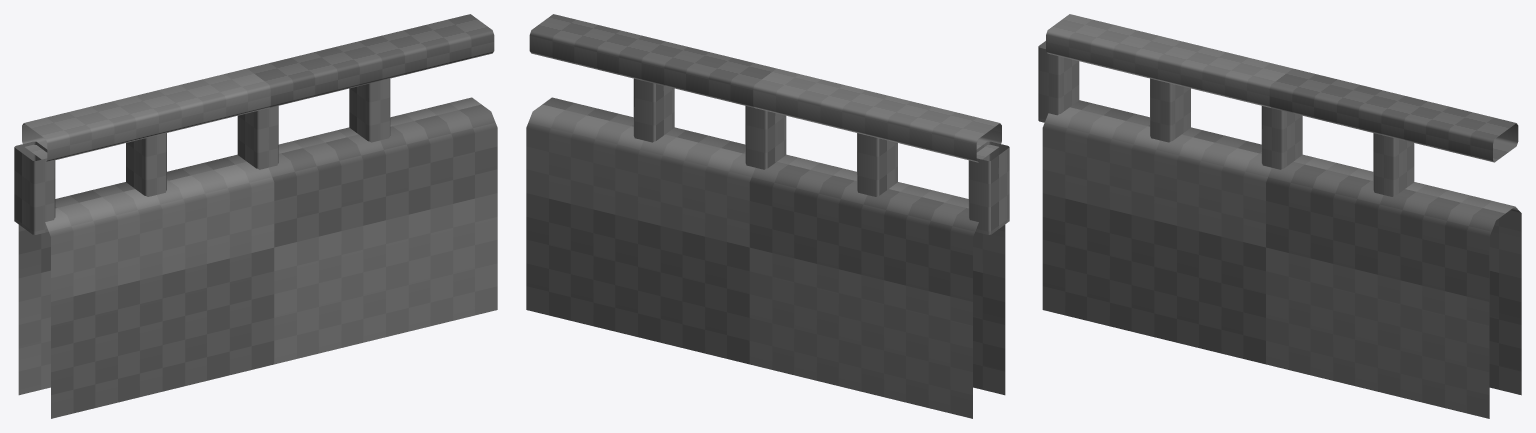
Rendered from Railing_X4_Y2_Z2.fbx.
3 renders of one model, left to right at view 1: azimuth 30°, elevation 25°; view 2: azimuth 150°, elevation 25°; view 3: azimuth 330°, elevation 25°, orthographic.
Visible parts, largest first — view 1: Railing_X4_Y2_Z2; view 2: Railing_X4_Y2_Z2; view 3: Railing_X4_Y2_Z2.
Boxes of the visible parts, left/top/right/bottom form: Railing_X4_Y2_Z2: left=14, top=14, right=497, bottom=418; Railing_X4_Y2_Z2: left=526, top=14, right=1009, bottom=418; Railing_X4_Y2_Z2: left=1038, top=14, right=1521, bottom=418.
Bounding box in the file's own units: 4.1 × 2.36 × 0.5.
